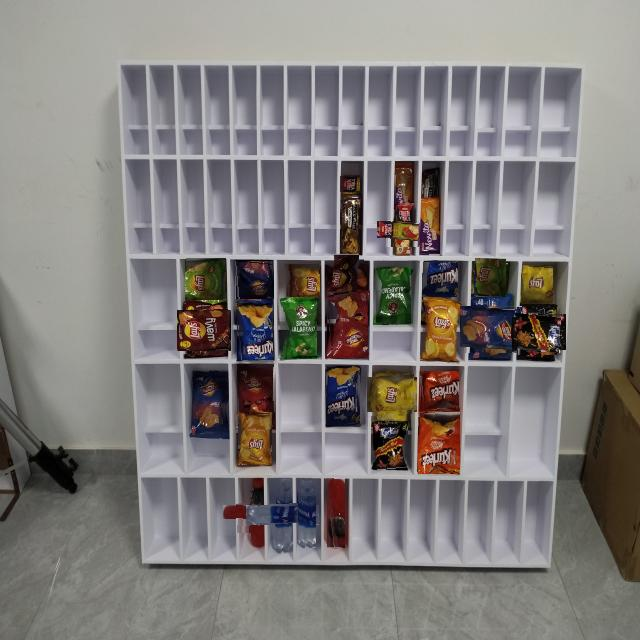Plastic: (326, 291, 368, 358), (464, 301, 517, 353), (418, 412, 460, 474), (423, 300, 460, 364), (192, 371, 228, 436), (180, 306, 228, 354), (281, 297, 317, 359), (236, 301, 273, 360), (260, 492, 306, 539), (515, 310, 561, 356), (374, 267, 411, 324), (326, 366, 360, 426), (370, 373, 414, 416), (238, 364, 276, 412), (238, 412, 272, 465), (236, 492, 278, 534), (373, 421, 408, 471), (185, 259, 227, 300), (419, 372, 459, 412), (234, 260, 274, 299), (326, 477, 345, 548), (340, 195, 362, 254), (422, 261, 458, 297), (521, 264, 553, 304), (386, 212, 422, 247), (473, 260, 508, 296), (329, 259, 364, 295), (298, 478, 316, 548), (420, 198, 440, 256), (286, 264, 320, 297), (394, 162, 414, 206), (422, 167, 440, 198), (341, 175, 360, 193)
